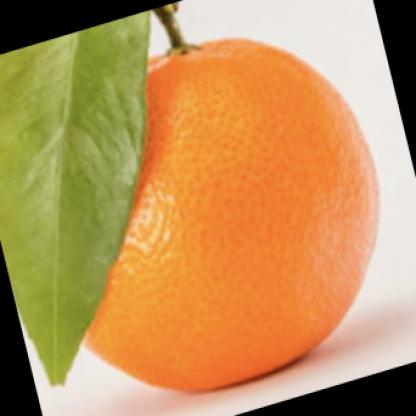orange: (55, 24, 376, 393)
